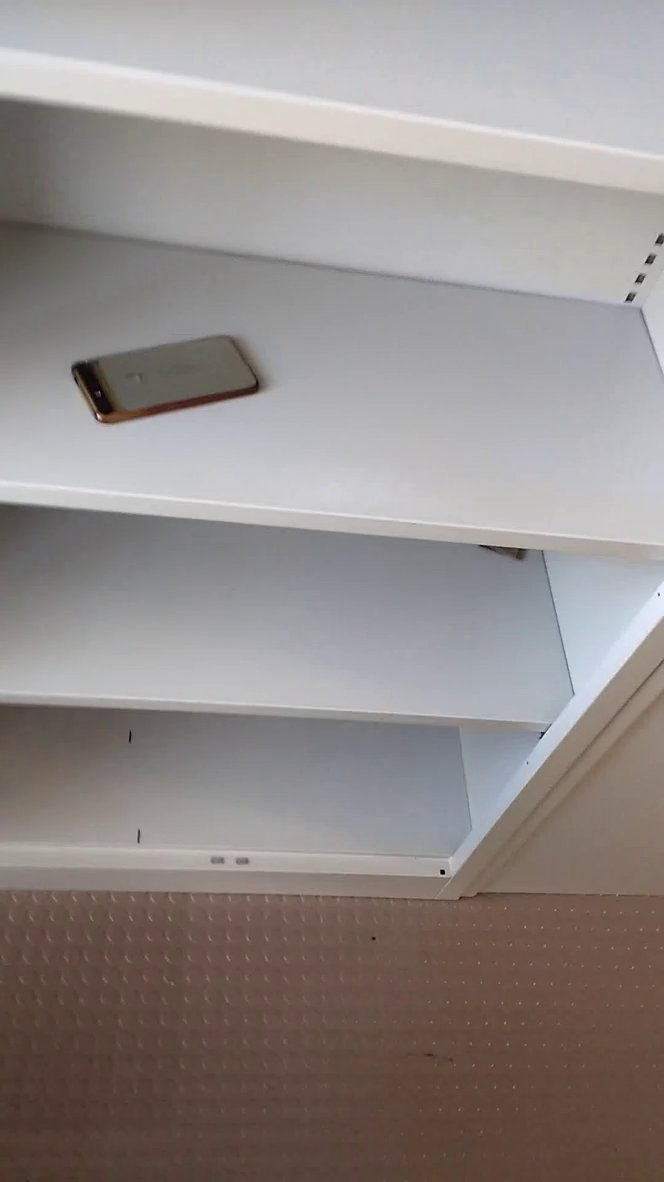phone: (66, 325, 277, 436)
